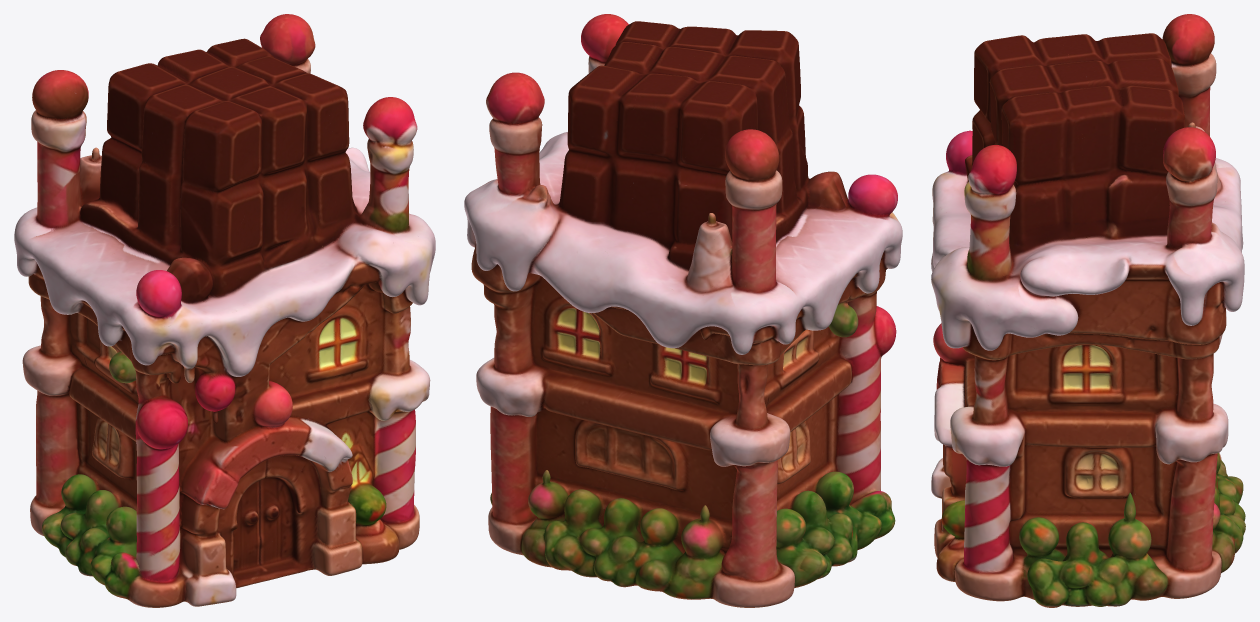
File: Meshy_AI_Candy_Cottage_20261104_texture.fbx
The picture shows the model from 3 angles, left to right: view 1: azimuth 30°, elevation 25°; view 2: azimuth 150°, elevation 25°; view 3: azimuth 270°, elevation 25°; orthographic projection. The views are drawn at different scales.
Visible parts, largest first — view 1: Mesh_0; view 2: Mesh_0; view 3: Mesh_0.
Part boxes in pixels (box(x1,y1,x2,y2)): Mesh_0: box(14, 14, 435, 607); Mesh_0: box(464, 14, 902, 607); Mesh_0: box(931, 14, 1245, 607).
Bounding box in the file's own units: 141 × 190 × 116.
Materials: 1 (1 with a texture image).
